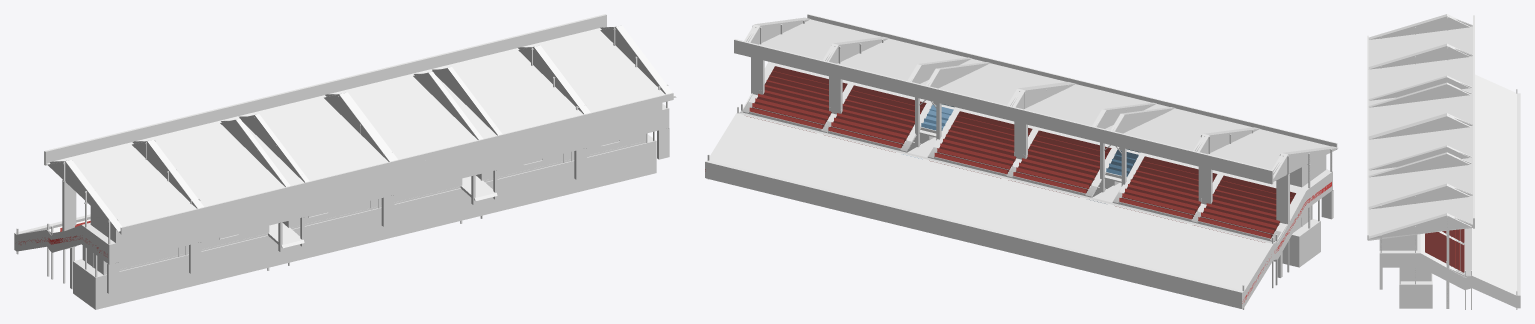
File: grandstand.dae
3 renders of one model, left to right at view 1: azimuth 30°, elevation 25°; view 2: azimuth 150°, elevation 25°; view 3: azimuth 270°, elevation 25°, orthographic. The views are drawn at different scales.
Parts seen in each view (by area): view 1: Colmesh-1, grandstands_a600, grandstands_a1200; view 2: Colmesh-1, grandstands_a1200, grandstands_a200, grandstands_a600; view 3: Colmesh-1, grandstands_a200, grandstands_a1200, grandstands_a600.
Boxes of the visible parts, left/top/right/bottom form: Colmesh-1: left=14, top=14, right=674, bottom=307; grandstands_a600: left=15, top=26, right=669, bottom=309; grandstands_a1200: left=14, top=26, right=673, bottom=293; Colmesh-1: left=705, top=17, right=1338, bottom=308; grandstands_a1200: left=705, top=14, right=1337, bottom=309; grandstands_a200: left=743, top=66, right=1331, bottom=242; grandstands_a600: left=709, top=16, right=1330, bottom=309; Colmesh-1: left=1368, top=14, right=1520, bottom=308; grandstands_a200: left=1368, top=226, right=1472, bottom=301; grandstands_a1200: left=1367, top=17, right=1517, bottom=309; grandstands_a600: left=1367, top=20, right=1517, bottom=308.
Size of the model in its own units: 88.47 by 28.17 by 19.47.
